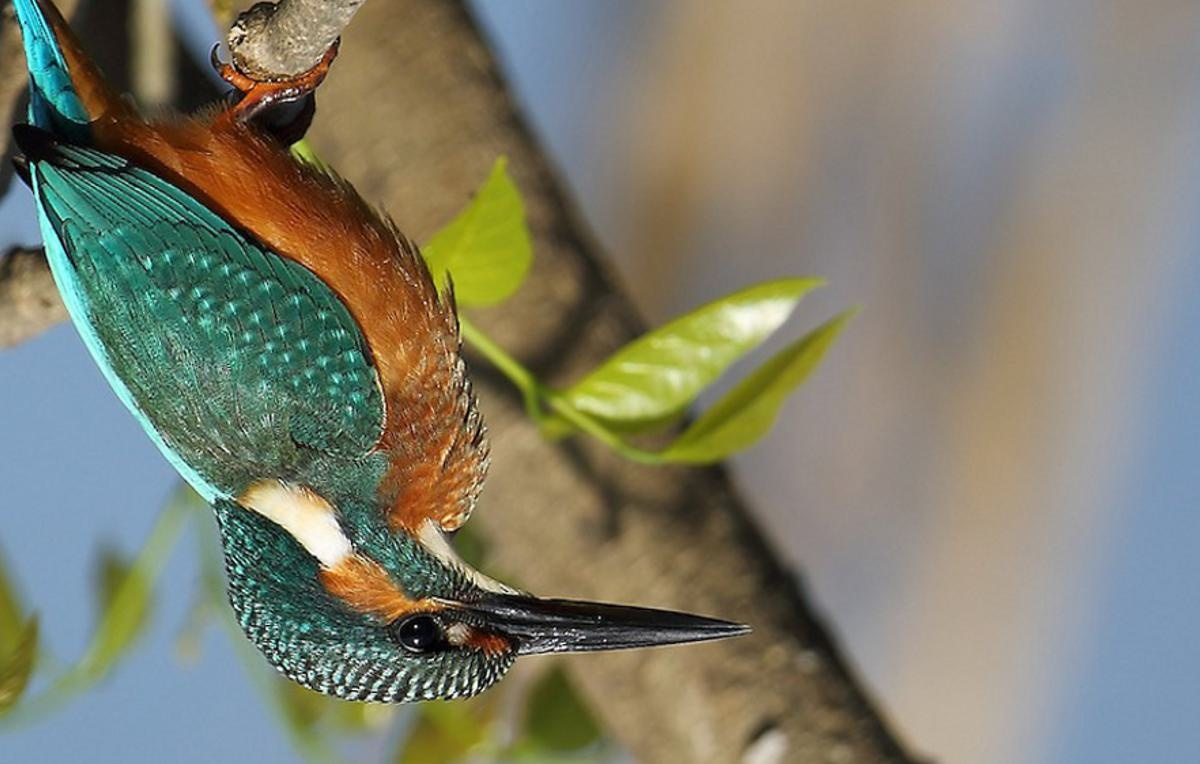kingfisher: (1, 1, 756, 712)
